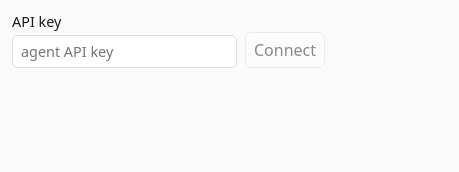
Test: ConnectBar › stores the key only after a successful check, and shows failure otherwise
Later steps or results of the test are not shown.
Type "bad" into the password field labelled "API key".
click(124, 52); type("bad")  # box [12,35,237,68]
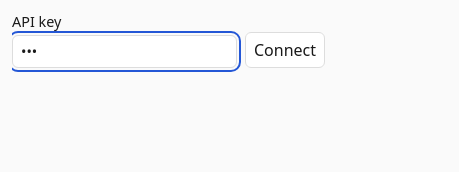
Click the button "Connect".
click(285, 50)  # box [245,32,325,68]
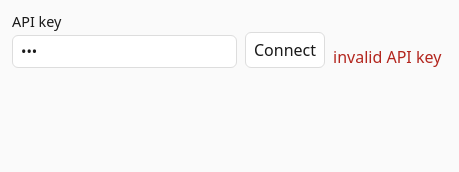
Check: the message reads "invalid API key", box [333,46,441,68]
